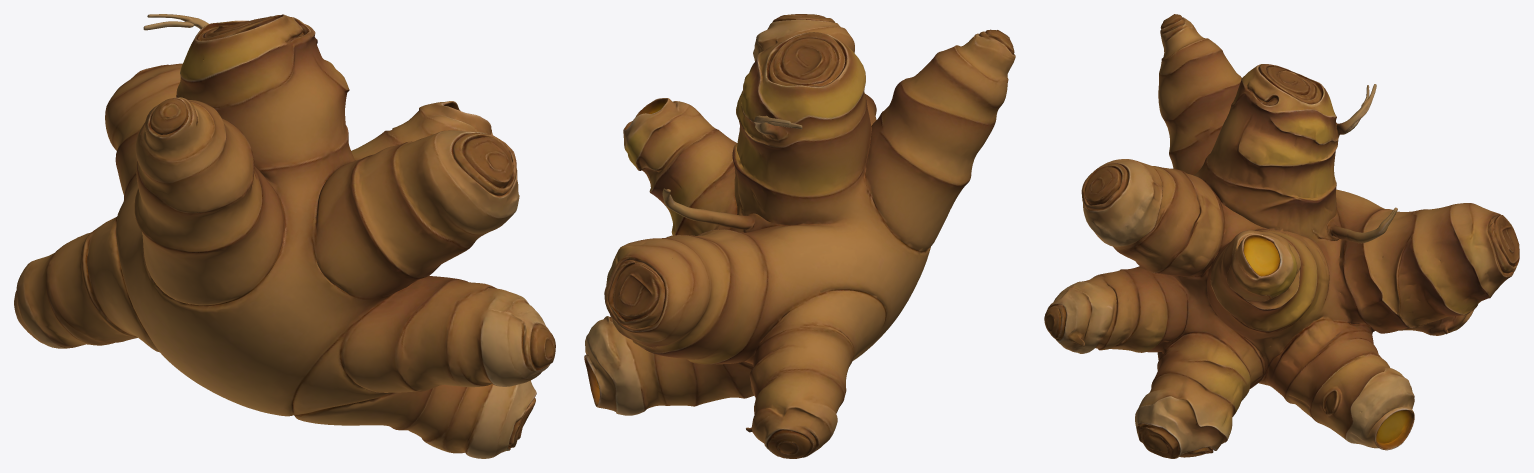
The model's file is temulawak.glb.
3 renders of one model, left to right at view 1: azimuth 30°, elevation 25°; view 2: azimuth 150°, elevation 25°; view 3: azimuth 270°, elevation 25°, orthographic. The views are drawn at different scales.
Visible parts, largest first — view 1: world; view 2: world; view 3: world.
Boxes of the visible parts, <box> form: world: <box>14,14,555,458</box>; world: <box>584,14,1015,458</box>; world: <box>1044,14,1519,458</box>.
Size of the model in its own units: 0.7348 by 0.7641 by 0.9996.
1 material, 1 textured.
